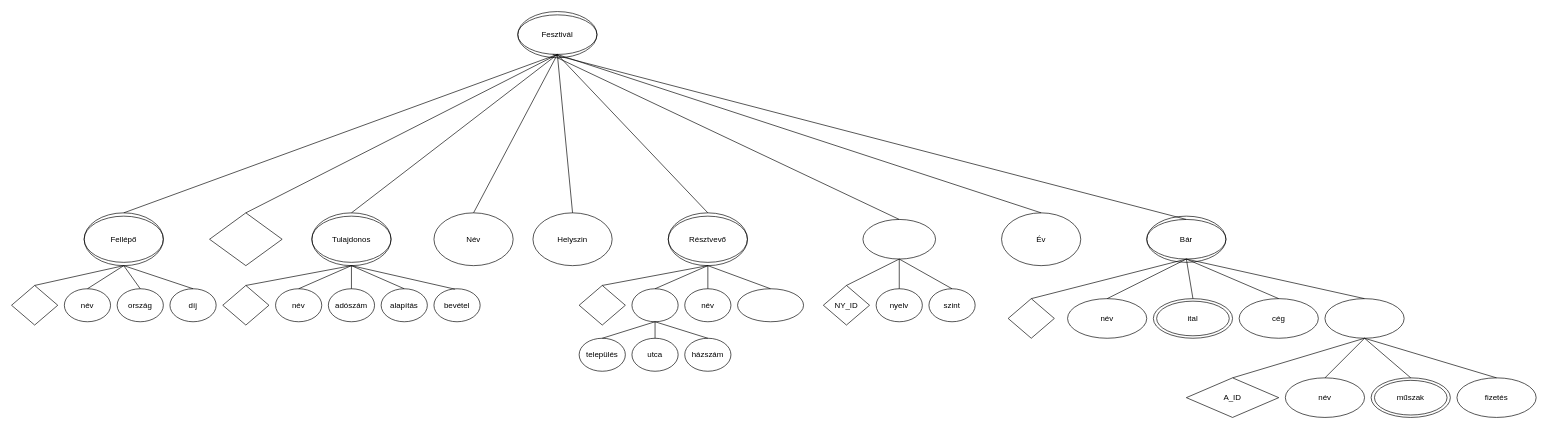
This 1548x429 diagram has some shape labels left out. The centre of each missing label's shape, as x and y in pixels:
Alkalmazott: point (1364, 318)
B_ID: point (1030, 318)
diákigazolvány: point (770, 305)
FEL_ID: point (34, 305)
FESZ_ID: point (245, 239)
lakcím: point (654, 305)
nyelvtudás: point (899, 239)
R_ID: point (601, 305)
T_ID: point (245, 305)
